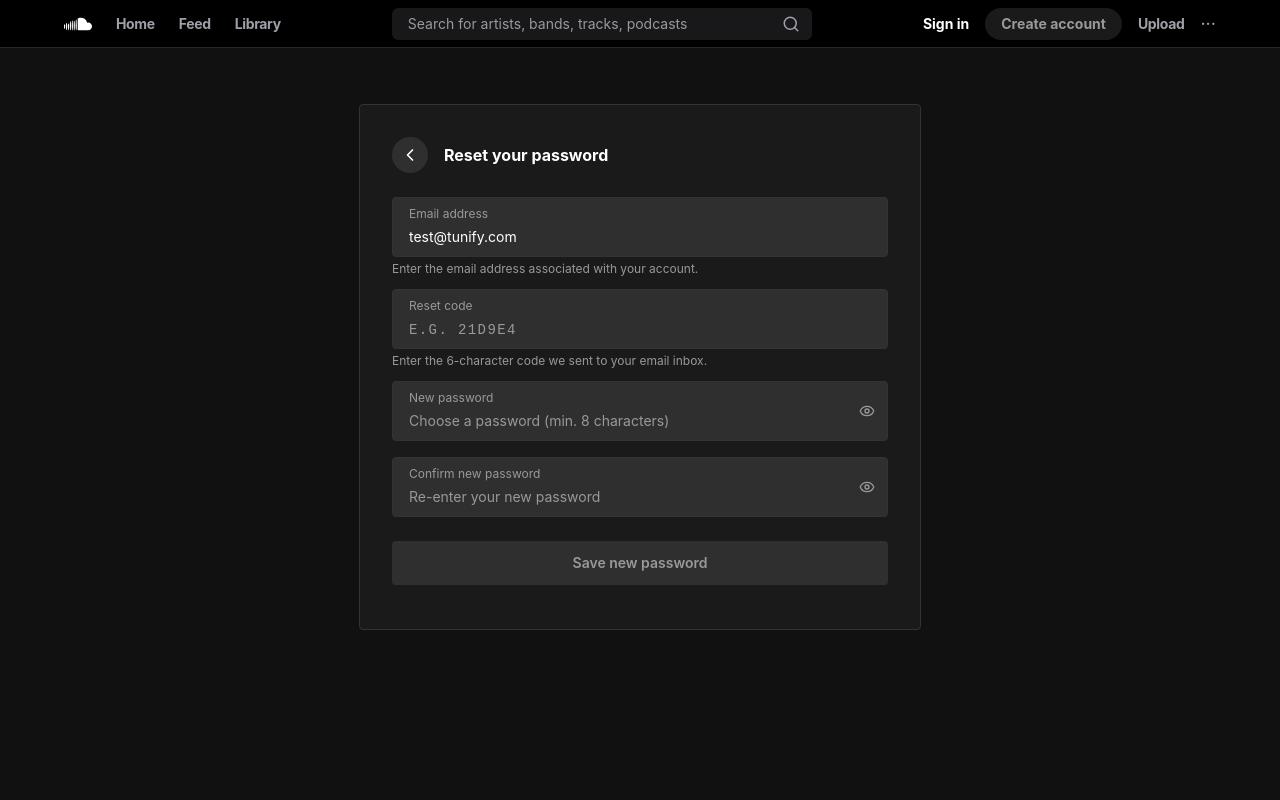
Test case: ResetPasswordPage — extra coverage › handles backend array error
This screenshot has width=1280, height=800.
Type "ABC123" into the field with placeholder "e.g. 21D9E4". click: [640, 330]
box: [409,320,871,340]
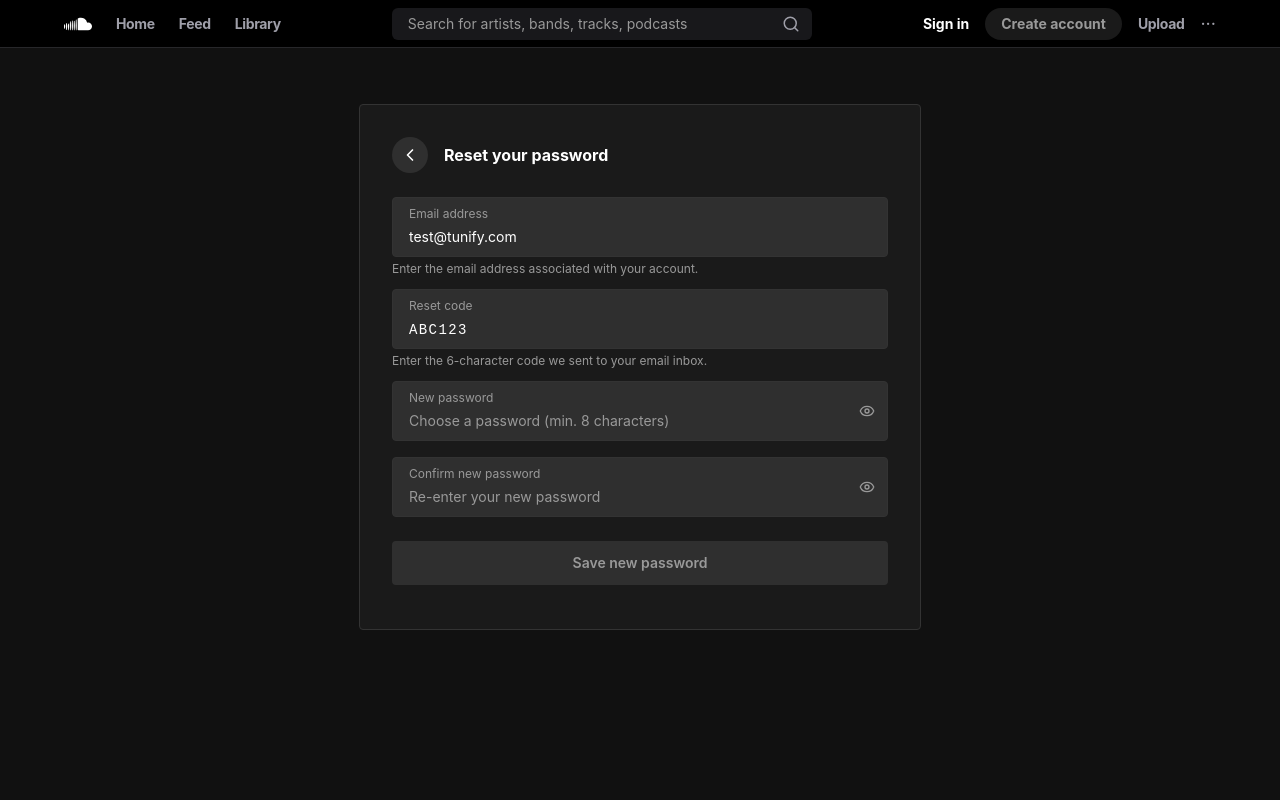
Type "Test@1234" into the password field with placeholder "Choose a password (min. 8 characters)". click: [640, 421]
box: [409,411,871,431]
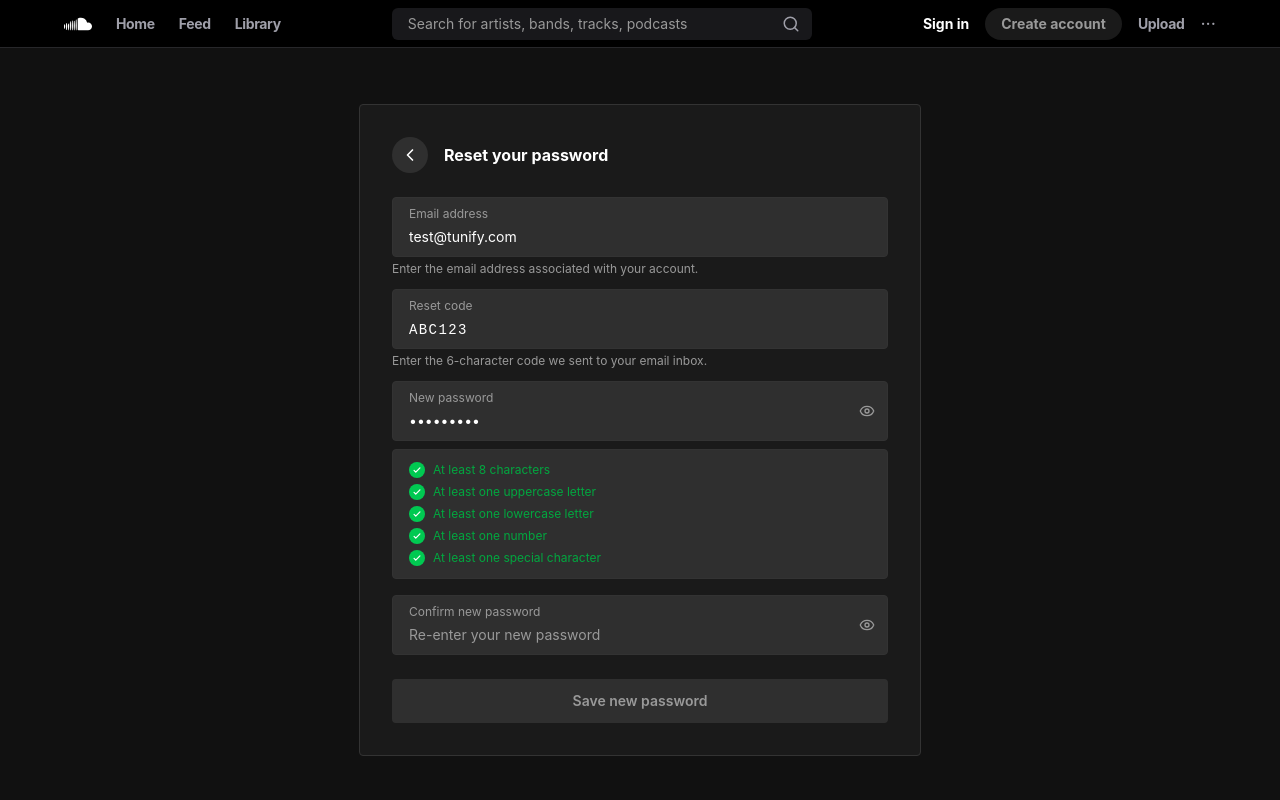
Type "Test@1234" into the password field with placeholder "Re-enter your new password". click: [640, 635]
box: [409,625,871,645]
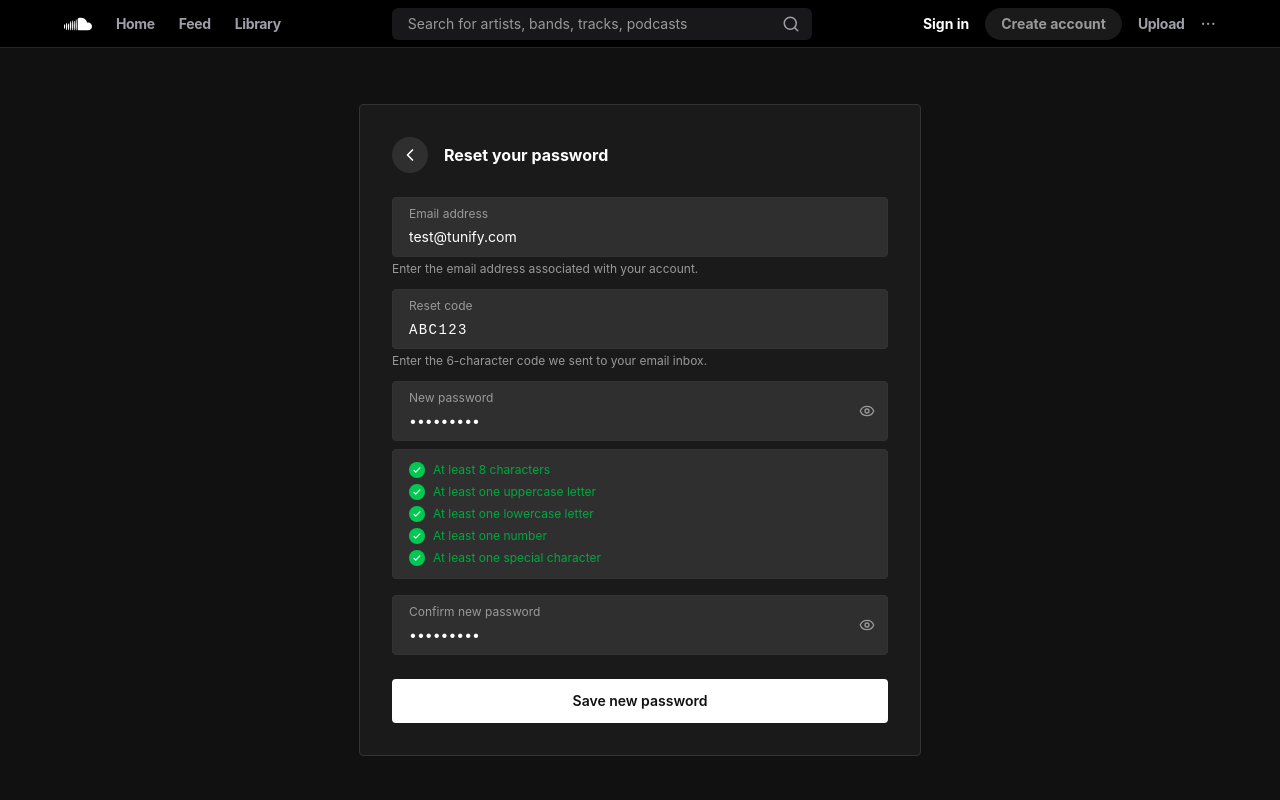
Click the button "Save new password". click: [640, 701]
box: [392,679,888,723]
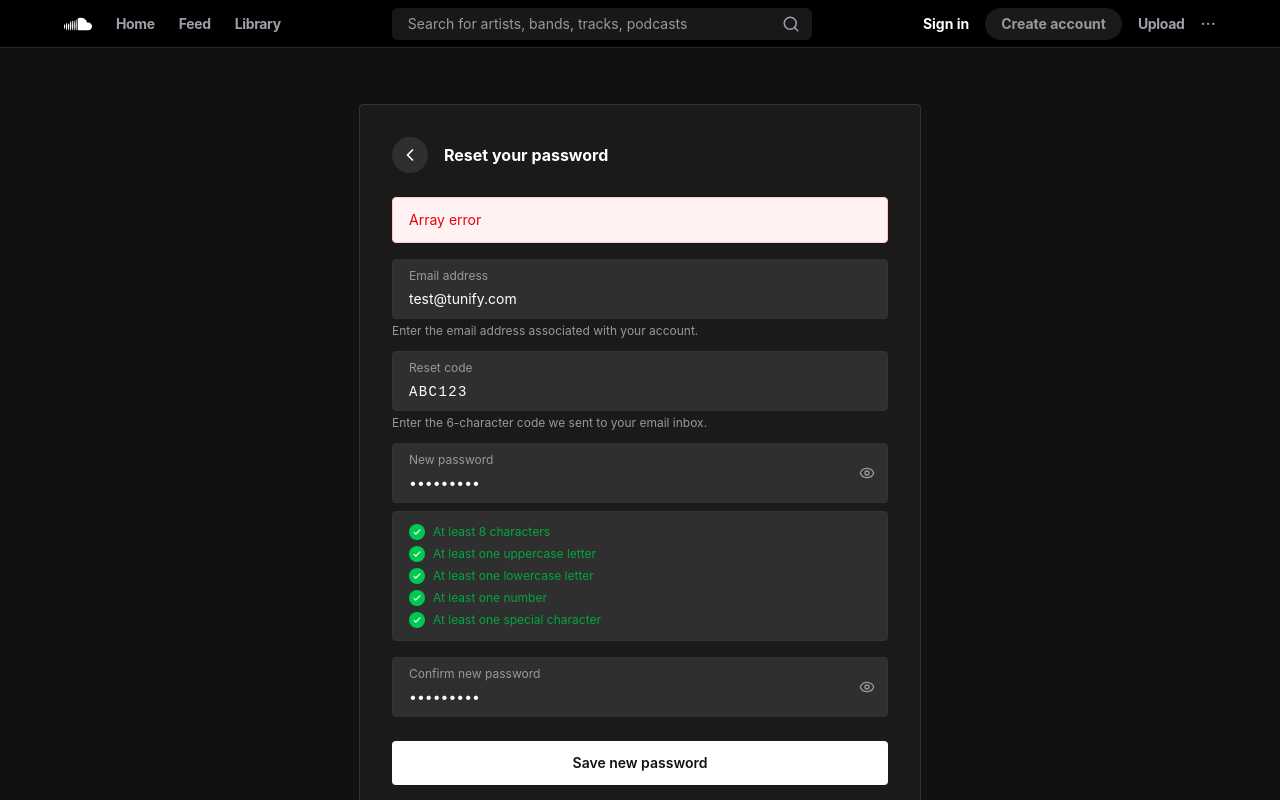
Expected: the text "Array error" is shown, [392,197,888,243]
